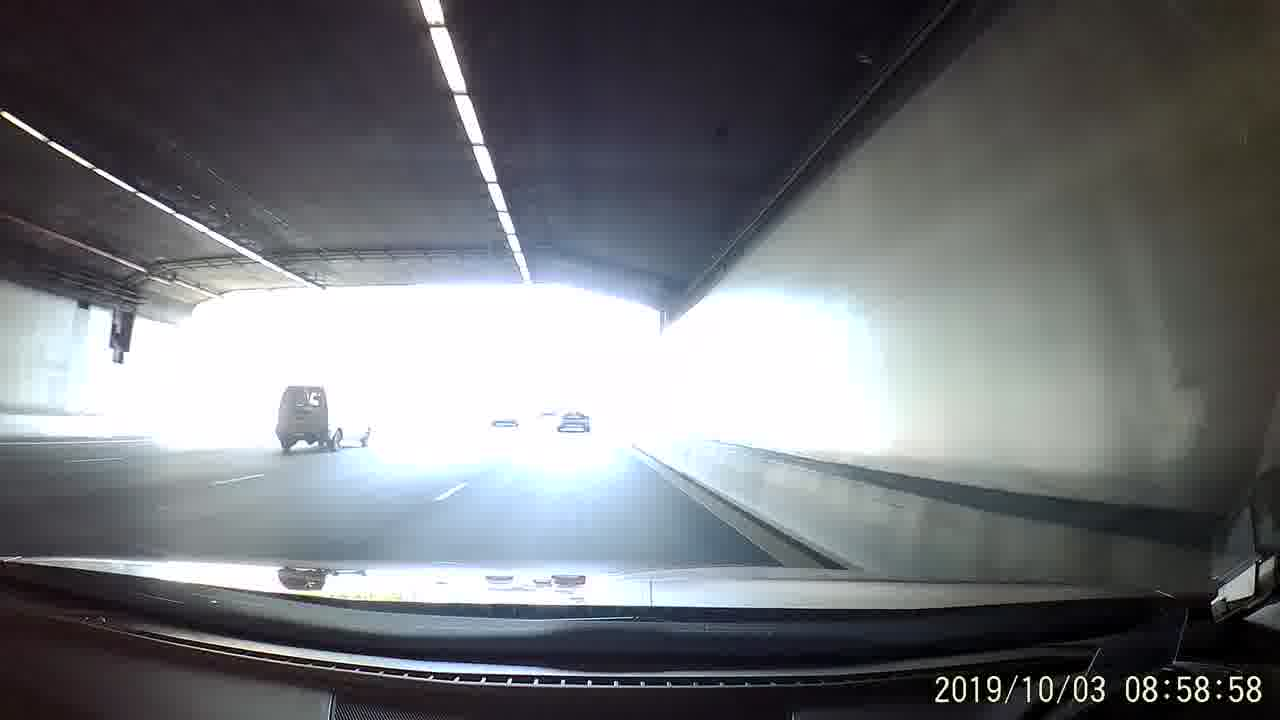car: (552, 406, 595, 432)
